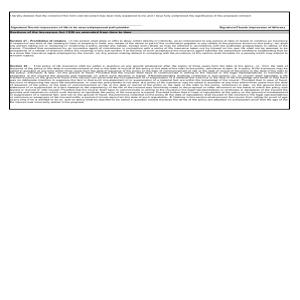text: (10, 63, 290, 104), (10, 39, 290, 57), (11, 13, 255, 18), (10, 25, 132, 29), (11, 31, 133, 34), (218, 25, 287, 30)
